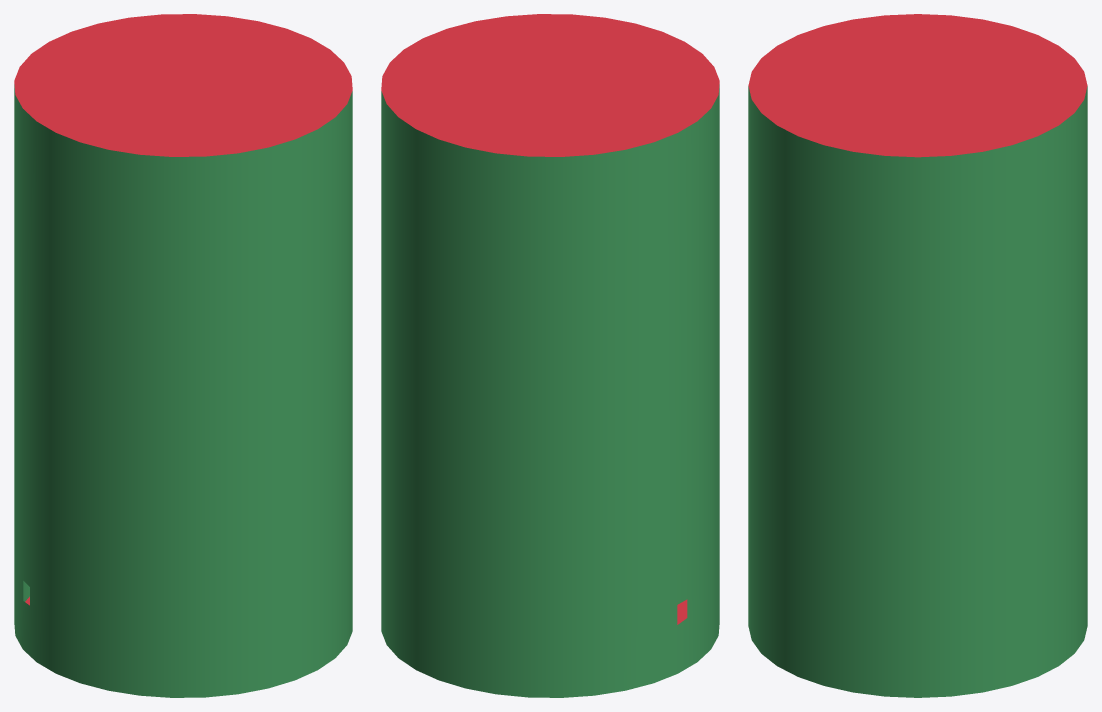
The model's file is Museum_Room_1.fbx.
3 views of the same model, side by side, from view 1: azimuth 30°, elevation 25°; view 2: azimuth 150°, elevation 25°; view 3: azimuth 270°, elevation 25° (orthographic).
Visible parts, largest first — view 1: Room_1; view 2: Room_1; view 3: Room_1.
Part boxes in pixels (x1=…): Room_1: x1=14, y1=14, x2=352, y2=697; Room_1: x1=381, y1=14, x2=719, y2=697; Room_1: x1=748, y1=14, x2=1087, y2=697.
Bounding box in the file's own units: 8000 × 14075 × 8000.
